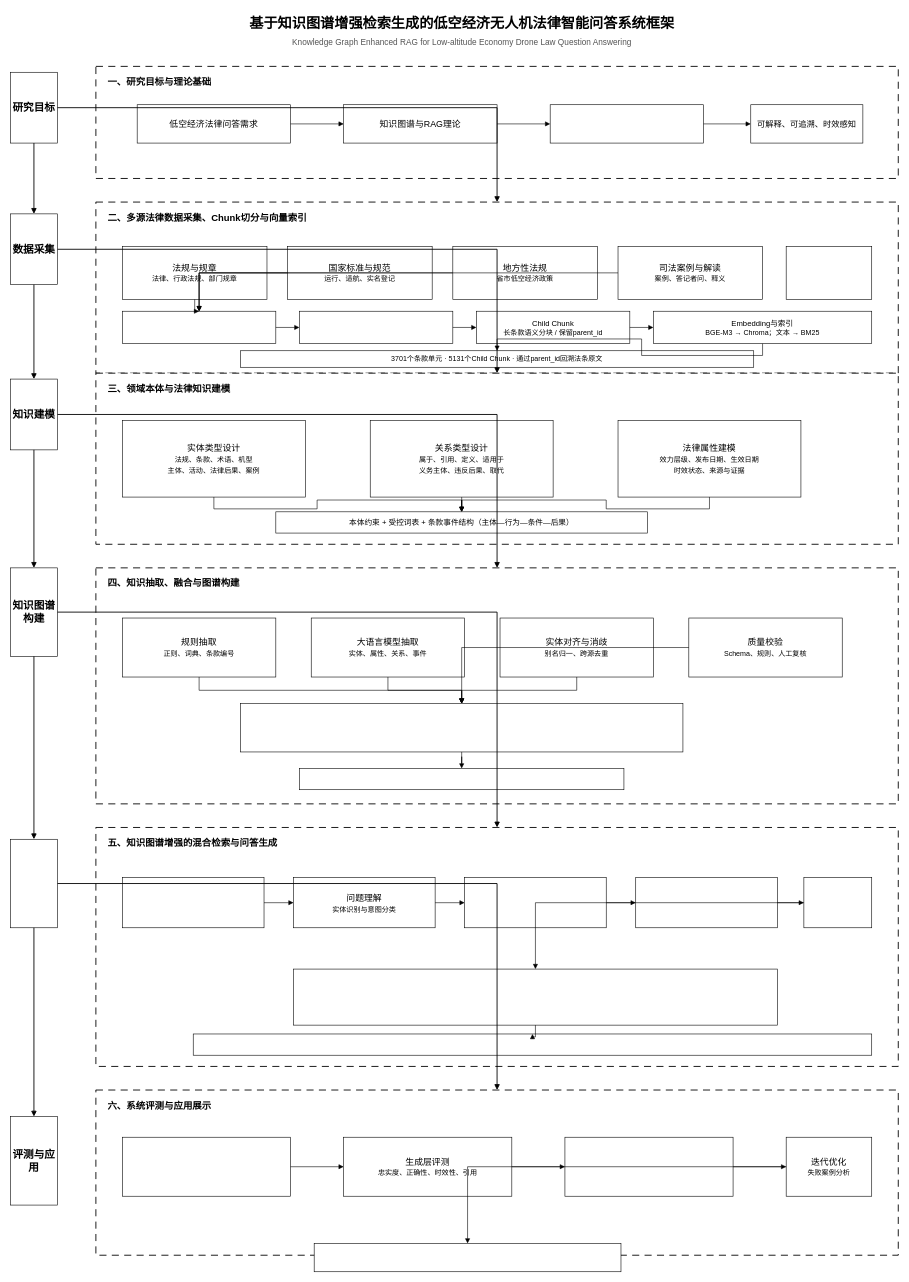
This 909x1282 diagram has some shape labels left out. Here are the shapes that lost their labels. From the top down, the centre of each, then its label:
At pixel 627 123: "系统设计目标".
At pixel 829 272: "36题 评测集".
At pixel 199 327: "解析、去重与元数据归一 效力层级 / 时效状态 / 来源".
At pixel 376 327: "Parent Chunk 一条法条 = 一个Article单元".
At pixel 461 727: "法律知识图谱 107部法规 · 531个案例 · 6650个节点 · 12489条边".
At pixel 461 779: "Neo4j图数据库 / Cypher查询 / 多关系异构图".
At pixel 34 883: "检索与问答".
At pixel 193 902: "用户问题 自然语言提问".
At pixel 535 902: "混合召回 BGE-M3 + BM25 + RRF".
At pixel 706 902: "精排与过滤 Reranker + 仅现行有效".
At pixel 837 902: "图扩展 1—2跳".
At pixel 535 996: "证据约束的LLM生成 只依据检索条文作答 · 强制法规名/条号引用 · 不编造依据".
At pixel 532 1044: "答案输出：结论 + 适用条件 + 法律依据 + 处罚/责任 + 引用来源 + 时效提示".
At pixel 206 1166: "检索层评测 Hit@k、Recall@k、MRR、nDCG".
At pixel 648 1166: "应用层 Web问答、引用溯源、图谱展示".
At pixel 467 1257: "评测反馈 → 检索、图谱与提示词持续优化".
